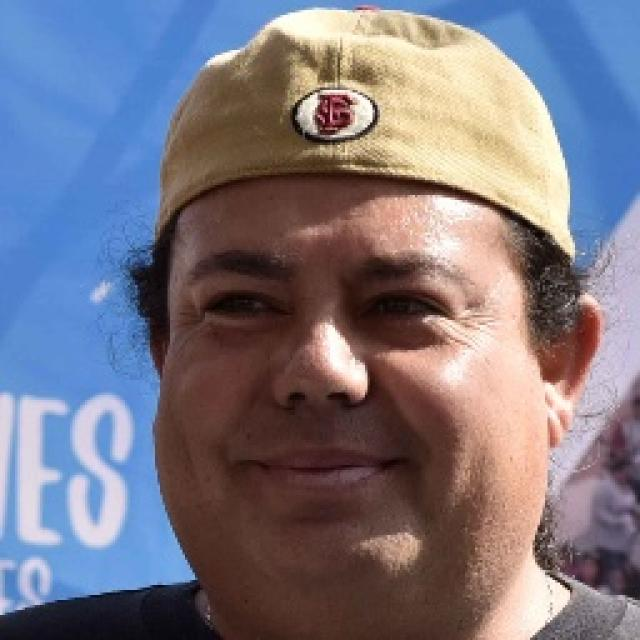earlobe: (544, 380, 578, 450)
eye: (199, 288, 288, 319), (363, 290, 445, 318)
nose: (270, 380, 368, 443)
wholeear: (538, 294, 602, 449)
